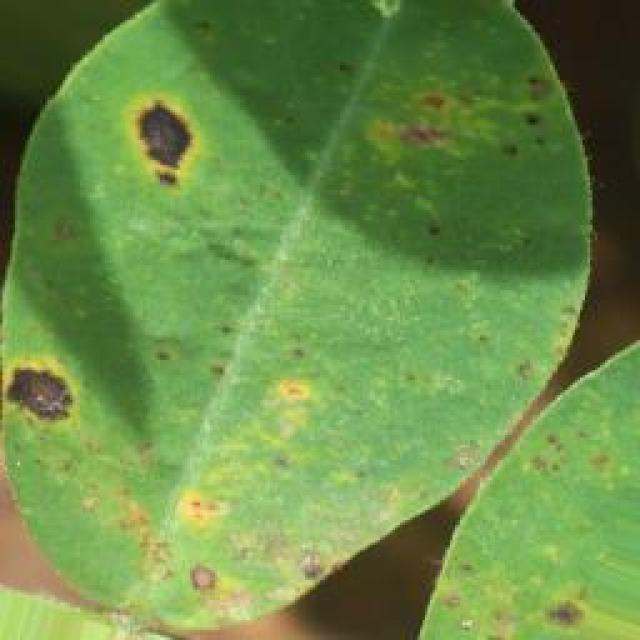Sigatoka: (92, 414, 347, 596), (390, 468, 590, 640), (362, 40, 534, 220), (151, 287, 322, 424), (490, 356, 610, 494), (107, 70, 220, 194), (0, 322, 101, 445)
